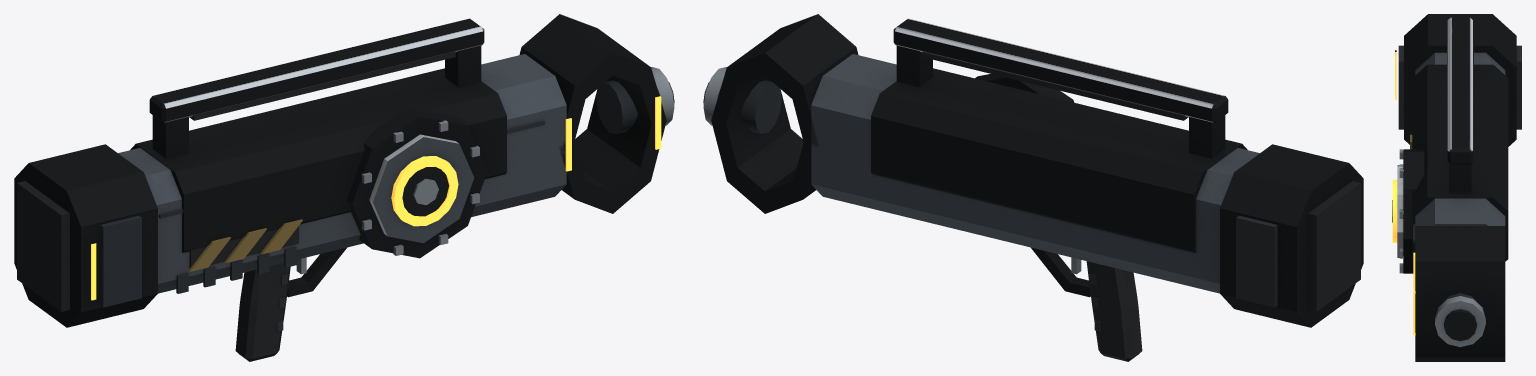
File: opr_wpn_breach_charge_a.glb
3 views of the same model, side by side, from view 1: azimuth 30°, elevation 25°; view 2: azimuth 150°, elevation 25°; view 3: azimuth 270°, elevation 25° (orthographic). The views are drawn at different scales.
Parts seen in each view (by area): view 1: mesh_intact; view 2: mesh_intact; view 3: mesh_intact.
Boxes of the visible parts, x1=… form: mesh_intact: x1=14, y1=14, x2=674, y2=361; mesh_intact: x1=703, y1=14, x2=1363, y2=361; mesh_intact: x1=1392, y1=14, x2=1521, y2=361.
Bounding box in the file's own units: 0.813 × 0.347 × 0.173.
1 material, 1 textured.
